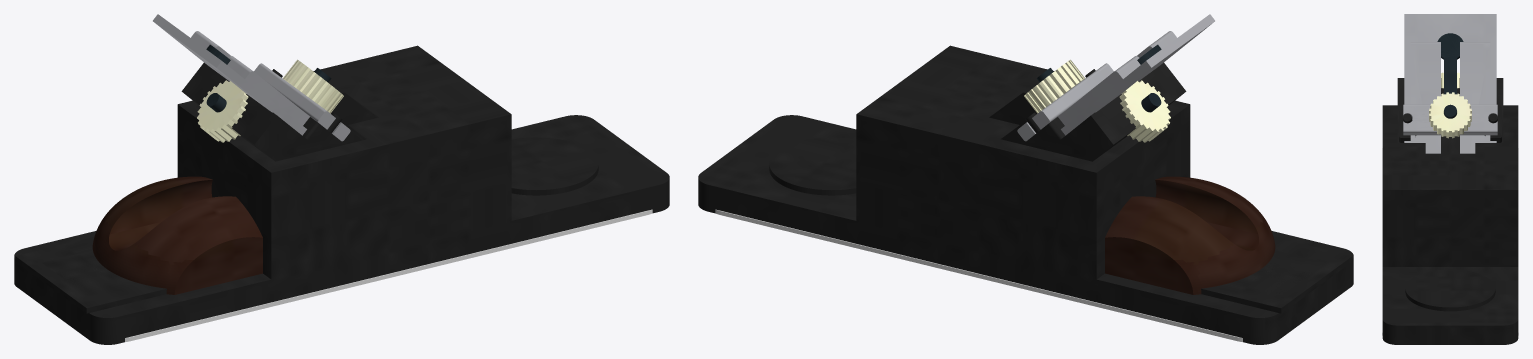
The model's file is Handtools_Hand_plane__0007.glb.
The picture shows the model from 3 angles, left to right: view 1: azimuth 30°, elevation 25°; view 2: azimuth 150°, elevation 25°; view 3: azimuth 270°, elevation 25°; orthographic projection. The views are drawn at different scales.
Parts seen in each view (by area): view 1: plane_body::casting, palm_rest::hump, plane_body::palm_heel_boss, plane_body::frog, cutting_iron::iron, plane_body::sole_edge, depth_wheel::wheel, clamp_bar::bar, thumbscrew::screw, plane_body::clamp_boss_1; view 2: plane_body::casting, palm_rest::hump, plane_body::palm_heel_boss, plane_body::frog, cutting_iron::iron, plane_body::sole_edge, depth_wheel::wheel, clamp_bar::bar, thumbscrew::screw, plane_body::clamp_boss_0; view 3: plane_body::casting, cutting_iron::iron, clamp_bar::bar, thumbscrew::screw, plane_body::frog, lateral_lever::lever, plane_body::sole_edge, plane_body::clamp_boss_1, plane_body::clamp_boss_0, plane_body::thumbscrew_stud.
Part boxes in pixels (x1=…): plane_body::casting: x1=14, y1=45, x2=669, y2=344; palm_rest::hump: x1=92, y1=176, x2=262, y2=294; plane_body::palm_heel_boss: x1=15, y1=237, x2=166, y2=313; plane_body::frog: x1=181, y1=62, x2=320, y2=161; cutting_iron::iron: x1=153, y1=14, x2=309, y2=135; plane_body::sole_edge: x1=125, y1=209, x2=652, y2=341; depth_wheel::wheel: x1=197, y1=80, x2=248, y2=142; clamp_bar::bar: x1=254, y1=63, x2=350, y2=141; thumbscrew::screw: x1=283, y1=59, x2=343, y2=113; plane_body::clamp_boss_1: x1=302, y1=112, x2=344, y2=150; plane_body::casting: x1=698, y1=45, x2=1353, y2=344; palm_rest::hump: x1=1105, y1=176, x2=1275, y2=294; plane_body::palm_heel_boss: x1=1201, y1=237, x2=1352, y2=313; plane_body::frog: x1=1047, y1=62, x2=1186, y2=161; cutting_iron::iron: x1=1058, y1=14, x2=1214, y2=135; plane_body::sole_edge: x1=715, y1=209, x2=1242, y2=341; depth_wheel::wheel: x1=1119, y1=80, x2=1170, y2=142; clamp_bar::bar: x1=1017, y1=63, x2=1113, y2=141; thumbscrew::screw: x1=1024, y1=59, x2=1084, y2=113; plane_body::clamp_boss_0: x1=1023, y1=112, x2=1065, y2=150; plane_body::casting: x1=1382, y1=105, x2=1518, y2=344; cutting_iron::iron: x1=1404, y1=14, x2=1496, y2=153; clamp_bar::bar: x1=1403, y1=104, x2=1497, y2=135; thumbscrew::screw: x1=1429, y1=92, x2=1471, y2=138; plane_body::frog: x1=1397, y1=78, x2=1503, y2=153; lateral_lever::lever: x1=1437, y1=33, x2=1463, y2=94; plane_body::sole_edge: x1=1382, y1=148, x2=1518, y2=335; plane_body::clamp_boss_1: x1=1399, y1=105, x2=1416, y2=142; plane_body::clamp_boss_0: x1=1484, y1=105, x2=1501, y2=142; plane_body::thumbscrew_stud: x1=1444, y1=104, x2=1456, y2=118.
Bounding box in the file's own units: 0.2253 × 0.0904 × 0.0637.
7 materials, 6 textured.
